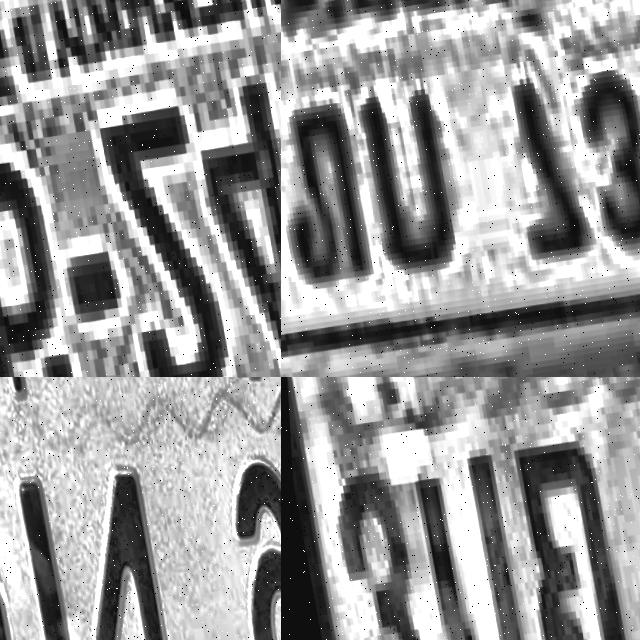license-plate: (281, 0, 640, 377), (0, 0, 281, 377), (281, 377, 640, 640), (0, 377, 281, 640)
